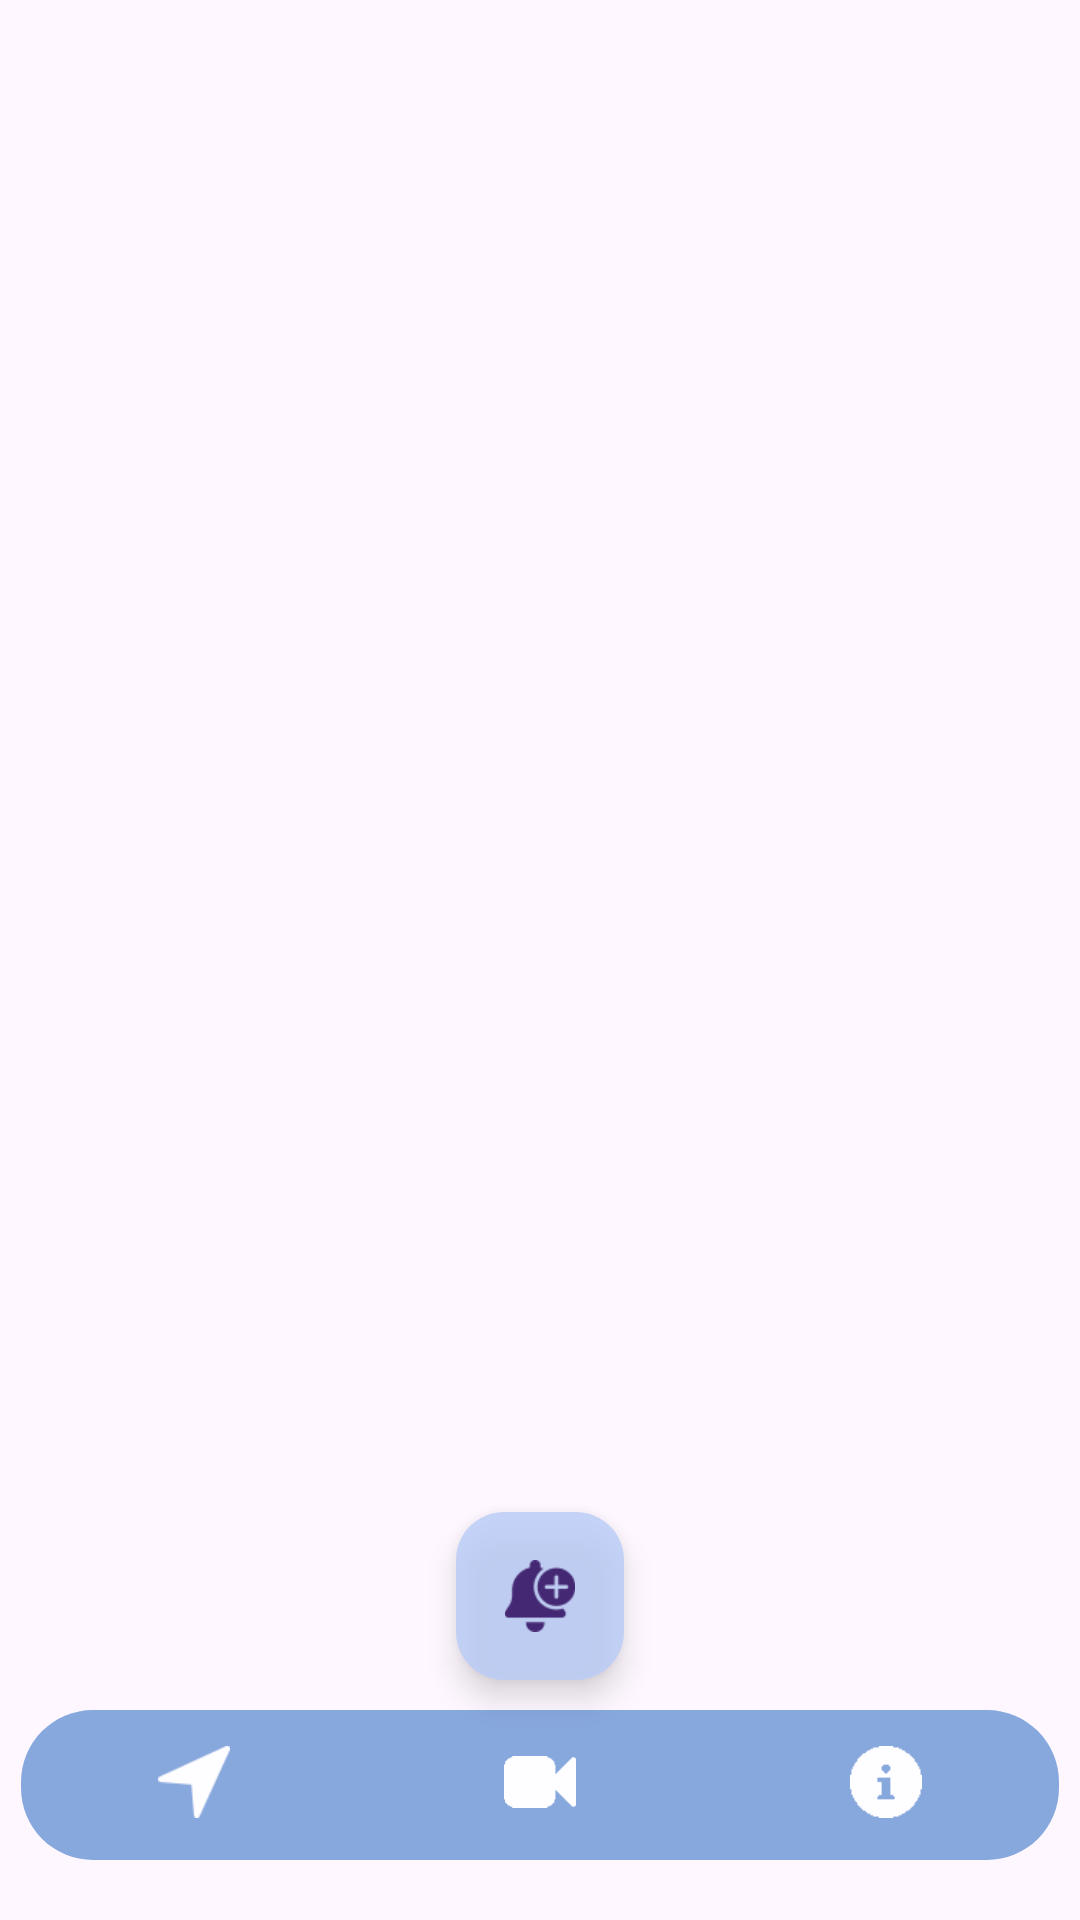

Where to tap for icons on this 1080*1920 app screen, as [x,y]:
reminder: [540,1596]
